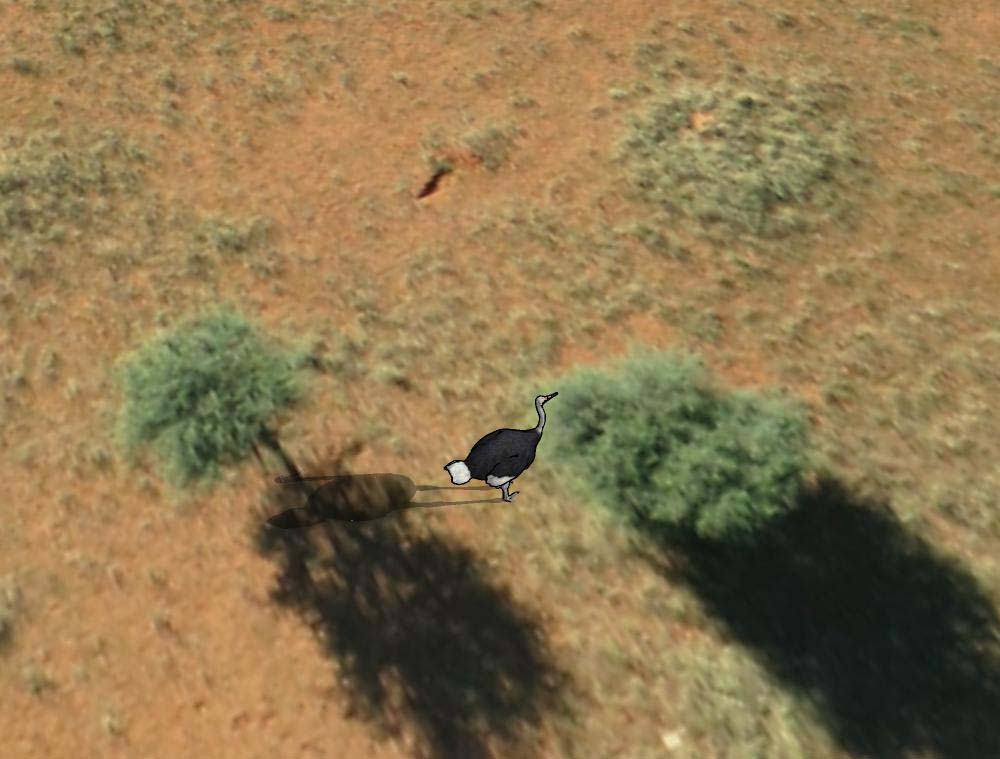springbok: (440, 390, 568, 503)
